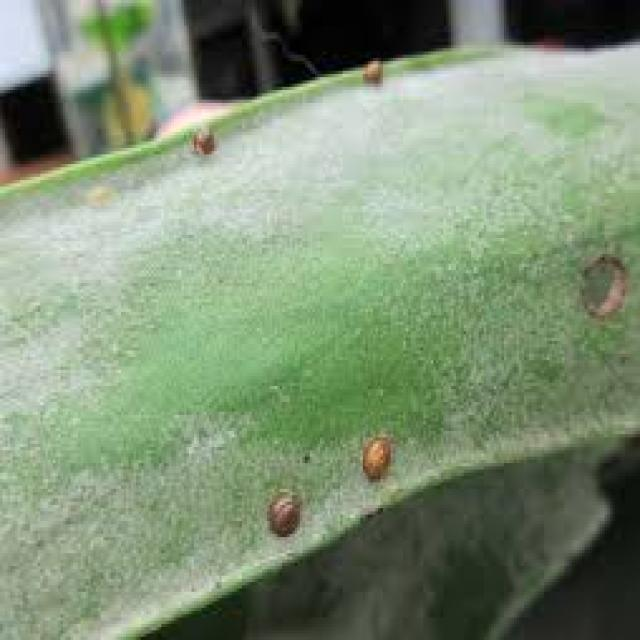scale_insect: (353, 428, 398, 482), (260, 482, 302, 537), (182, 116, 220, 161), (356, 48, 386, 84)
